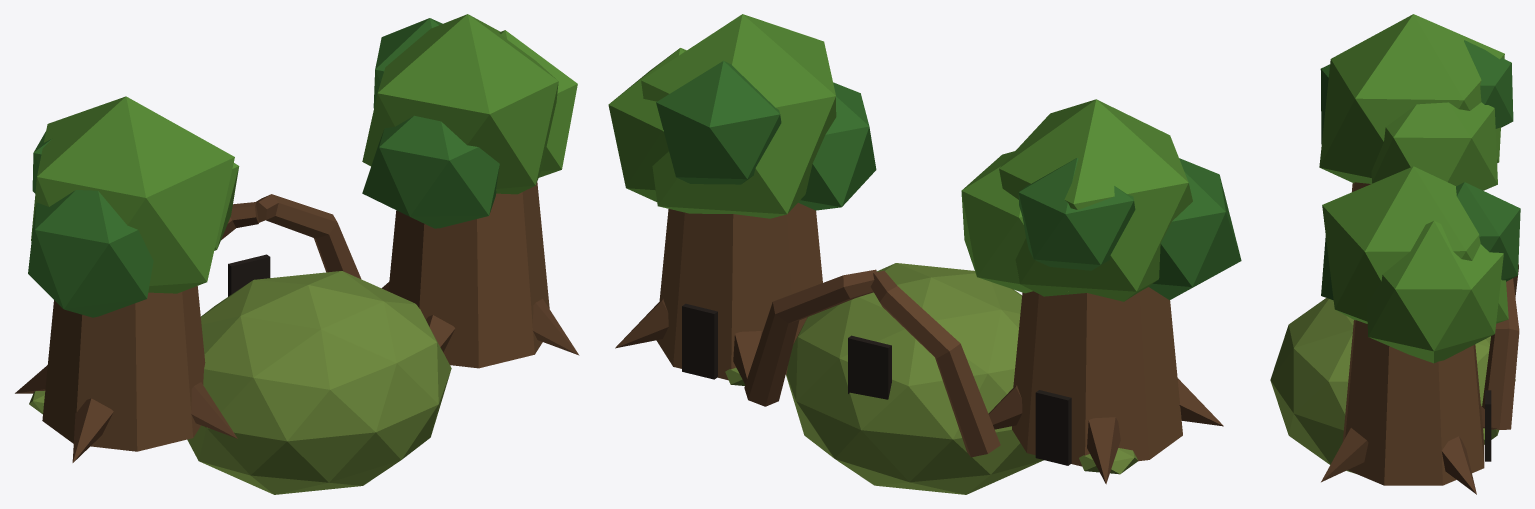
The model's file is treekin_row.glb.
3 renders of one model, left to right at view 1: azimuth 30°, elevation 25°; view 2: azimuth 150°, elevation 25°; view 3: azimuth 270°, elevation 25°, orthographic. The views are drawn at different scales.
Visible parts, largest first — view 1: treekin_row; view 2: treekin_row; view 3: treekin_row.
Part boxes in pixels (left/top/right/bottom): treekin_row: left=15, top=14, right=579, bottom=494; treekin_row: left=608, top=14, right=1241, bottom=494; treekin_row: left=1270, top=14, right=1520, bottom=494.
Bounding box in the file's own units: 3.72 × 2.66 × 1.59.
